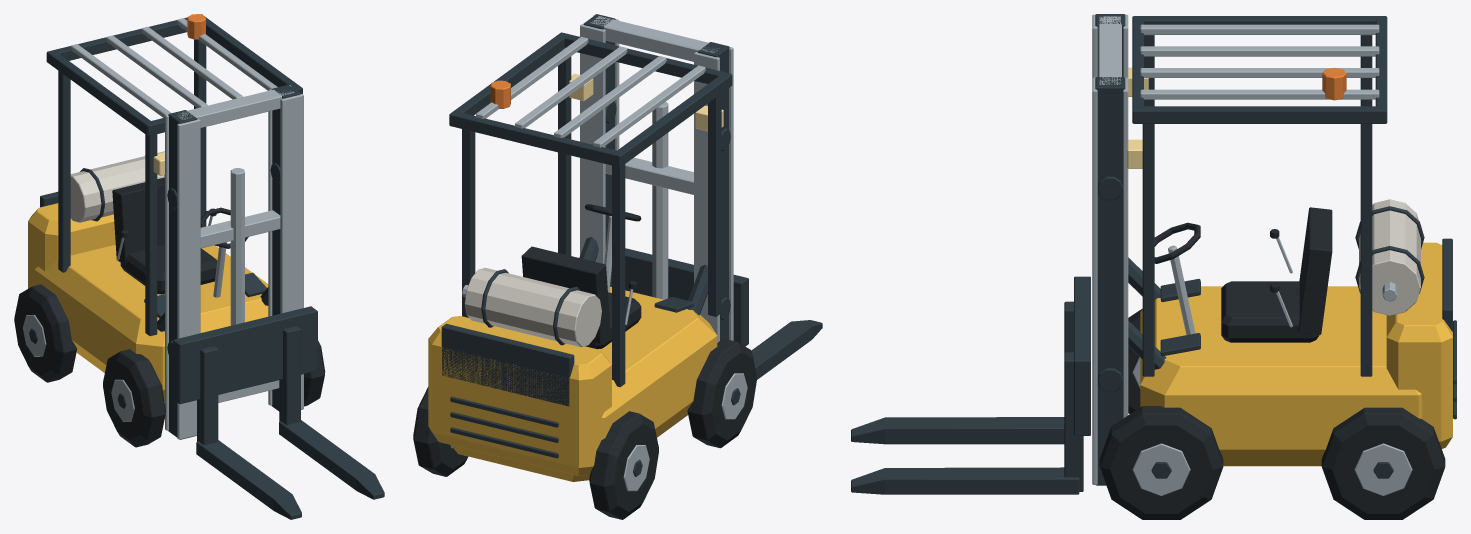
The model's file is b14_warehouse_counterbalance_forklift.glb.
The picture shows the model from 3 angles, left to right: view 1: azimuth 30°, elevation 25°; view 2: azimuth 150°, elevation 25°; view 3: azimuth 270°, elevation 25°; orthographic projection. The views are drawn at different scales.
Parts seen in each view (by area): view 1: b14_warehouse_counterbalance_forklift; view 2: b14_warehouse_counterbalance_forklift; view 3: b14_warehouse_counterbalance_forklift.
Part boxes in pixels (bbox=[...]): b14_warehouse_counterbalance_forklift: bbox=[14, 14, 384, 519]; b14_warehouse_counterbalance_forklift: bbox=[413, 14, 822, 519]; b14_warehouse_counterbalance_forklift: bbox=[851, 14, 1456, 519].
Bounding box in the file's own units: 1.26 × 2.21 × 2.84.
